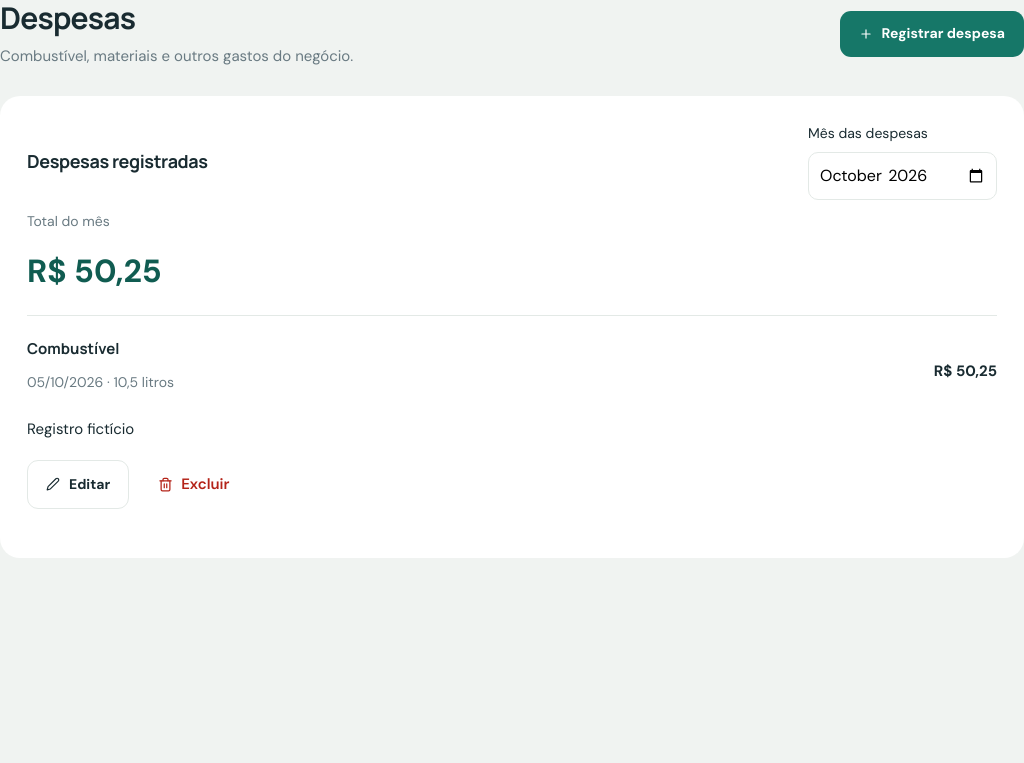
Tela de despesas › não perde os dados quando o banco rejeita o cadastro e permite tentar de novo
This screenshot has width=1024, height=763.
Click the button "Registrar despesa": x=932, y=34 [840,11,1023,57]
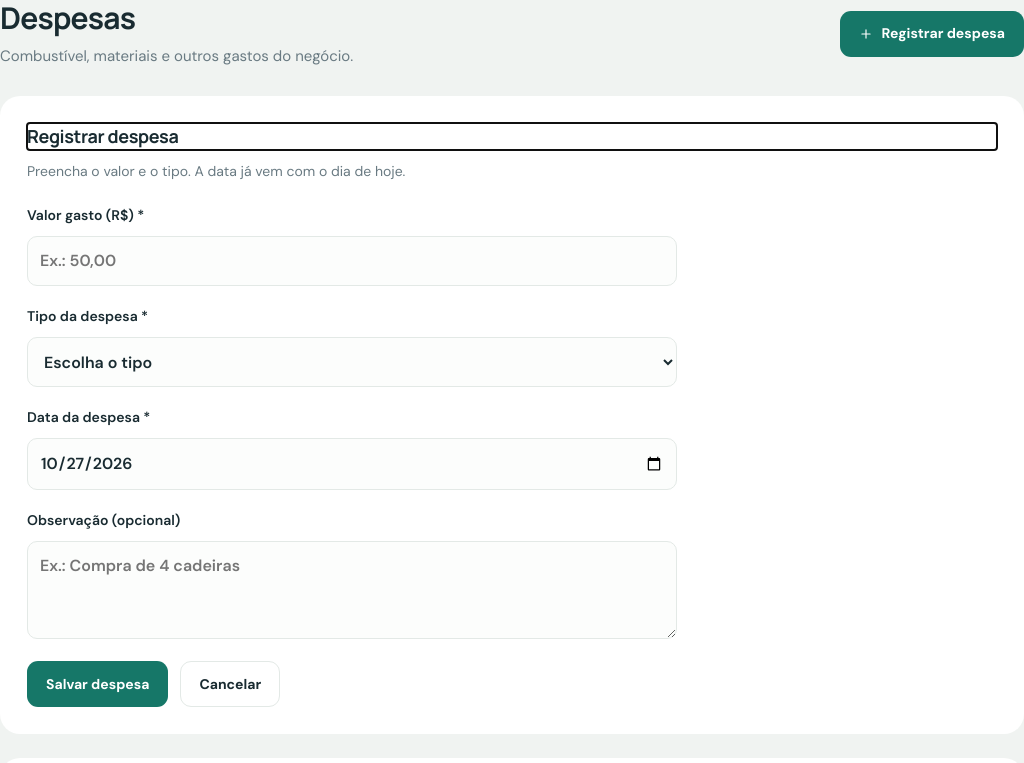
In the field labelled "Valor gasto (R$) *": x=352, y=261 [27,236,677,286], type "50,25"
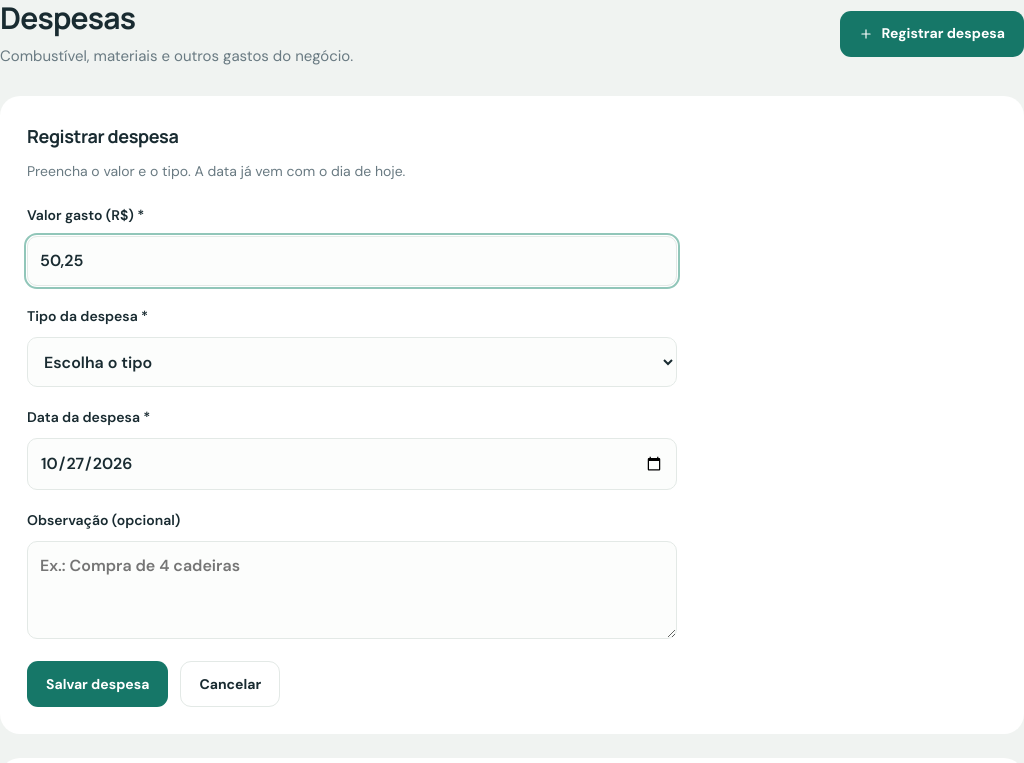
Select "Combustível" in the dropdown labelled "Tipo da despesa *": x=352, y=362 [27,337,677,387]
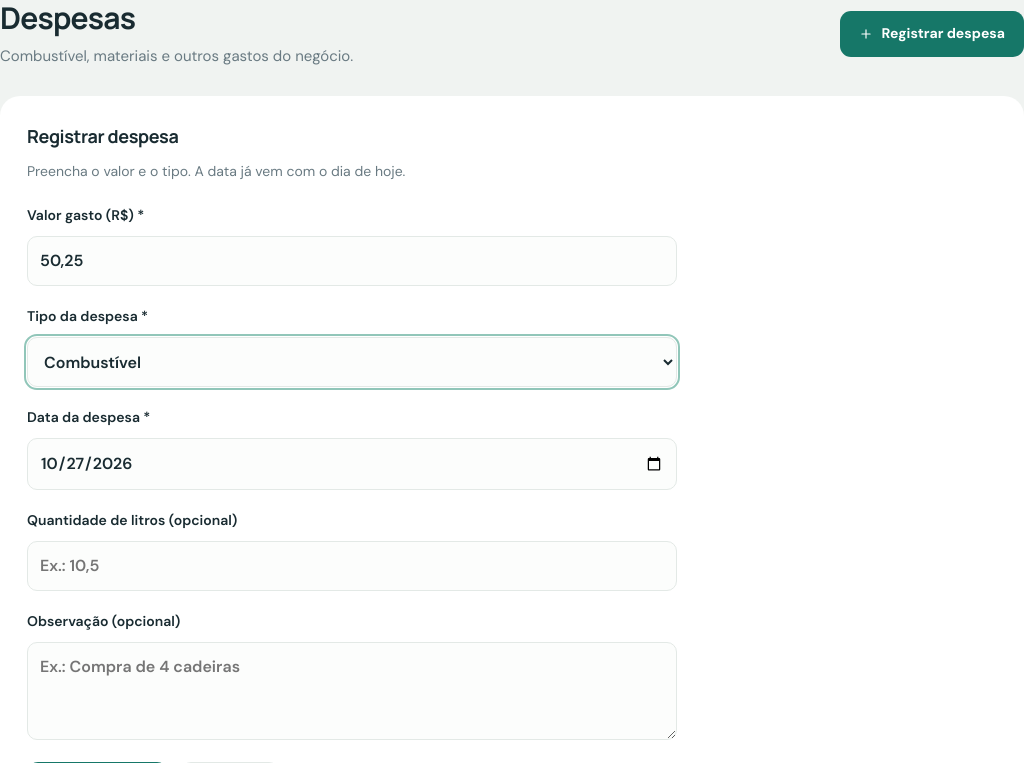
In the field labelled "Quantidade de litros (opcional)": x=352, y=566 [27,541,677,591], type "10,5"
(page scrolled)
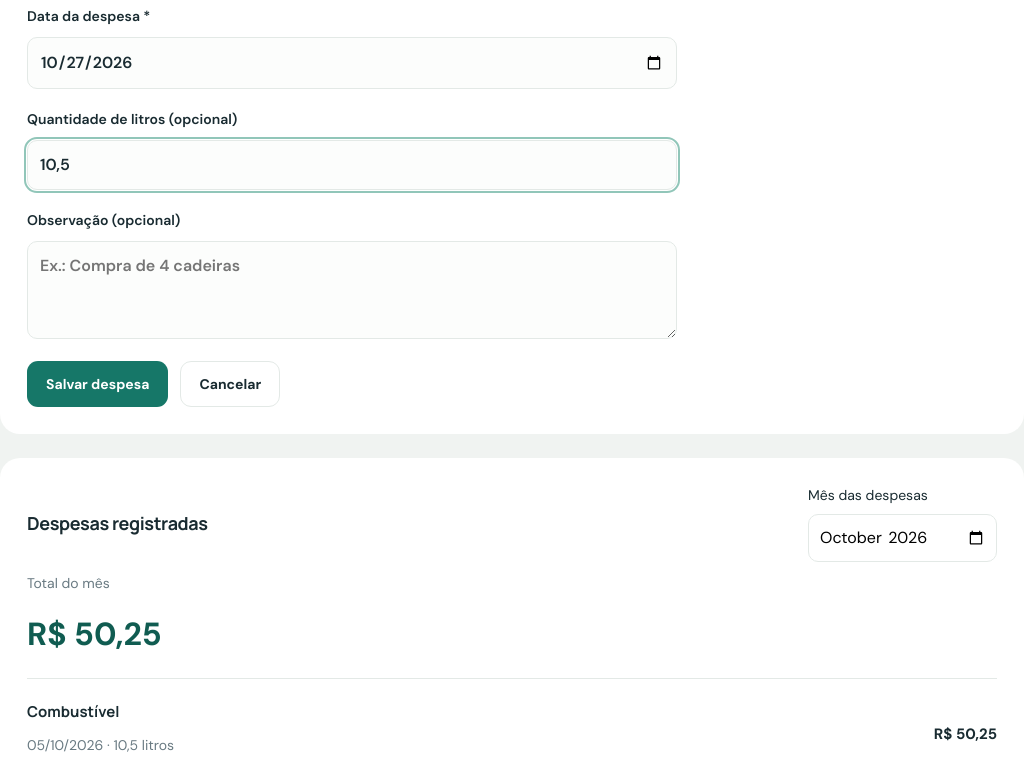
Click the button "Salvar despesa": x=98, y=384 [27,361,168,407]
(page scrolled)
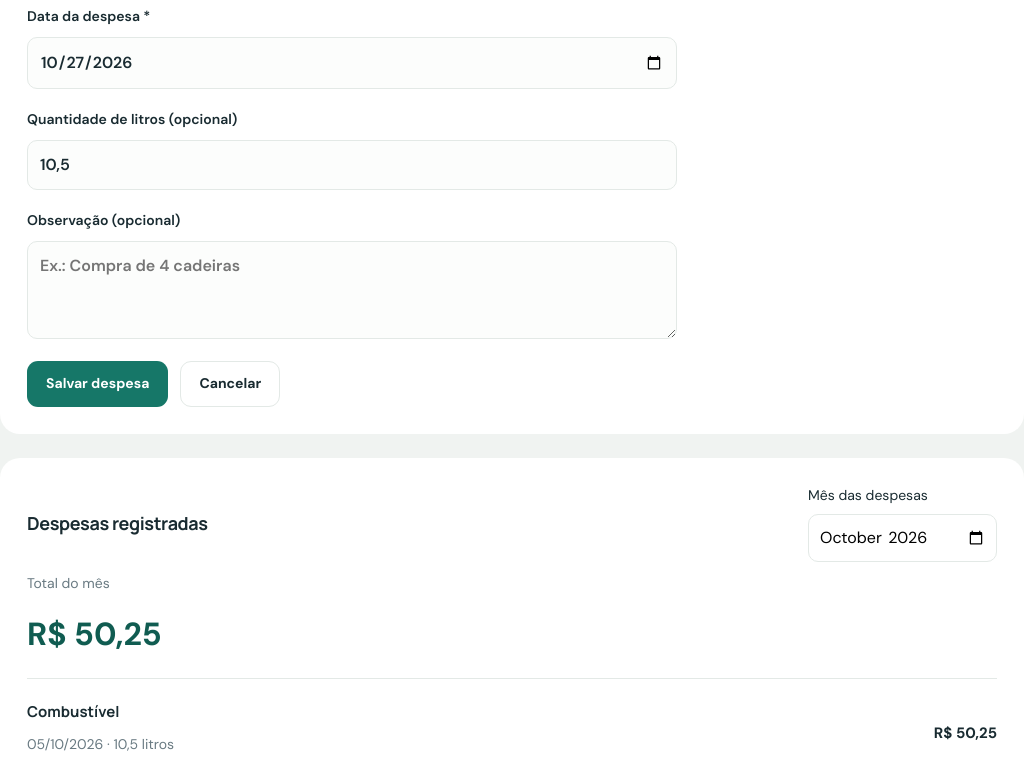
Click the button "Salvar despesa": x=98, y=384 [27,361,168,407]
(page scrolled)
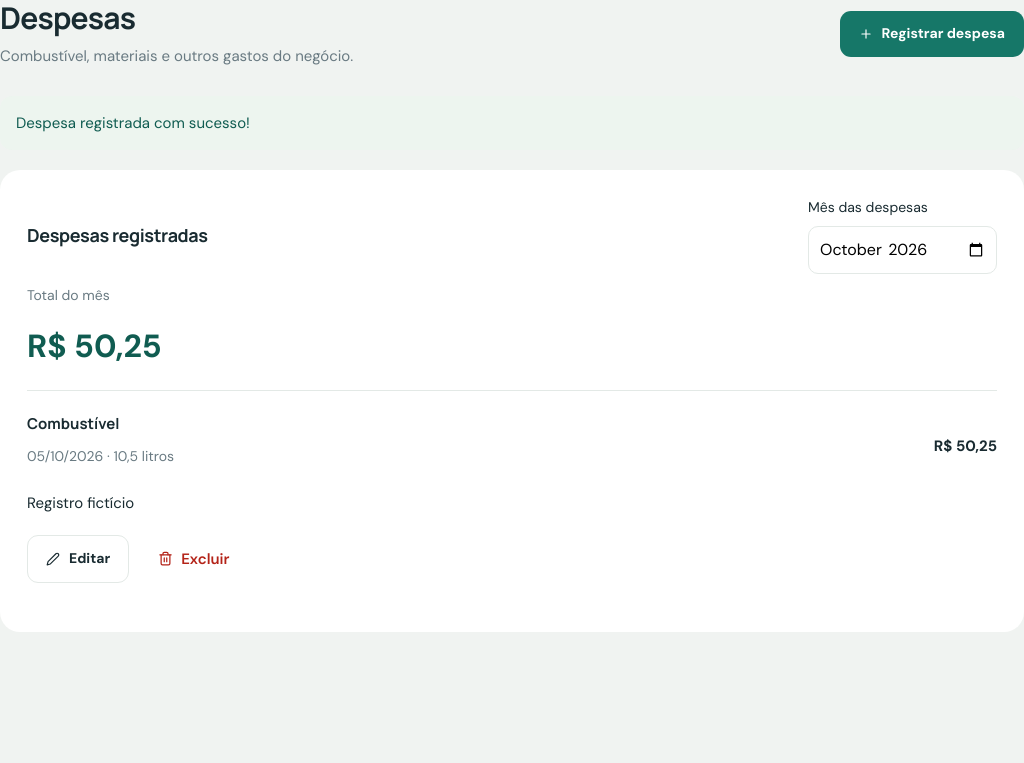
Expected: the message shows "registrada com sucesso", [16,112,250,132]
